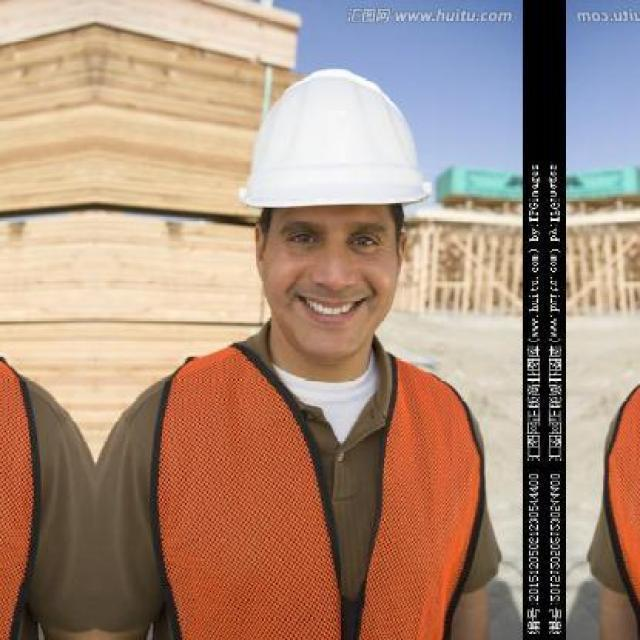white helmet: (235, 70, 431, 204)
